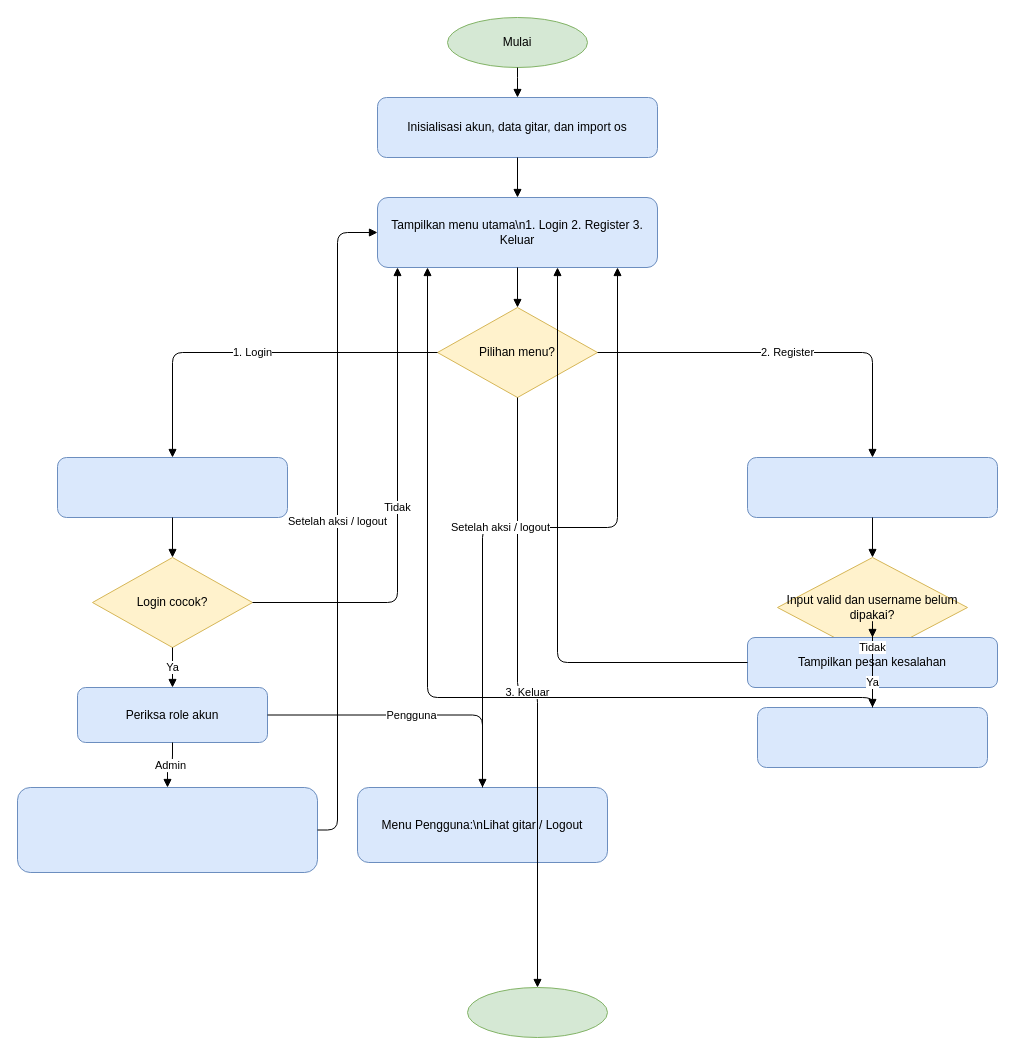
Image size: 1015x1055. Some labels were removed from this diagram. Here are the shapes that lost their labels. From the top down, the centre of each, then its label:
At (172,487): "Masukkan username dan password".
At (872,487): "Masukkan username dan password baru".
At (872,737): "Simpan akun sebagai Pengguna".
At (167,829): "Menu Admin:\nTambah / Lihat / Ubah / Hapus / Logout".
At (537,1012): "Selesai".
